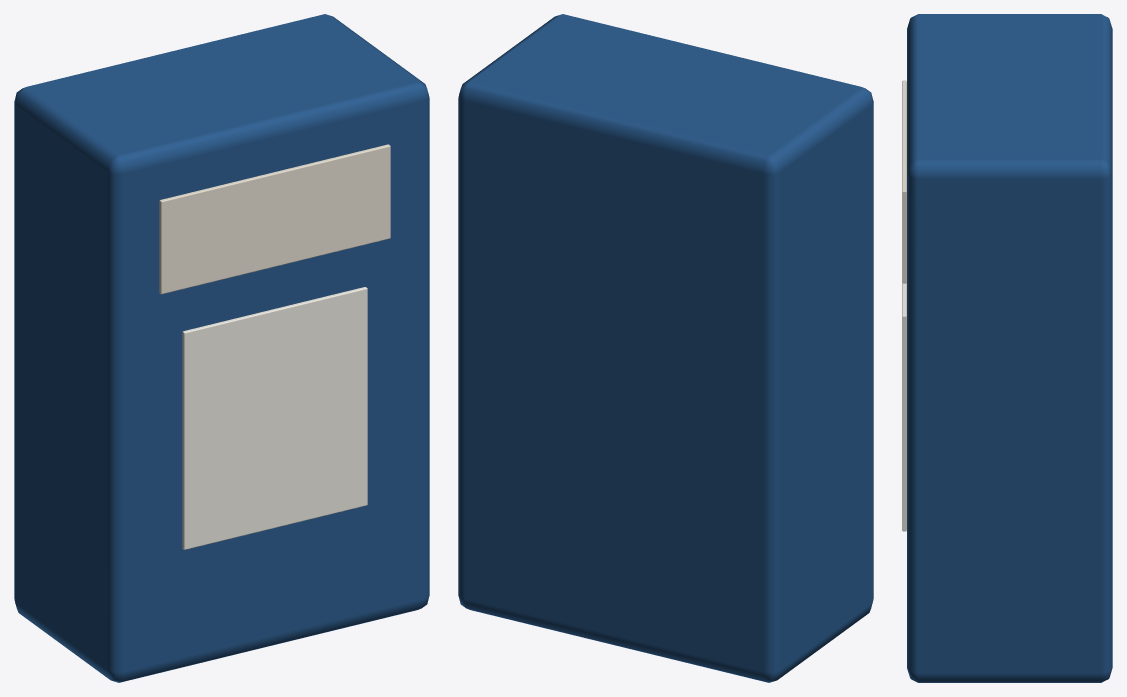
File: wp-paquet-de-riz.glb
3 views of the same model, side by side, from view 1: azimuth 30°, elevation 25°; view 2: azimuth 150°, elevation 25°; view 3: azimuth 270°, elevation 25° (orthographic).
Visible parts, largest first — view 1: wp-paquet-de-riz; view 2: wp-paquet-de-riz; view 3: wp-paquet-de-riz.
Boxes of the visible parts, x1,y1,x2,y2 form: wp-paquet-de-riz: [14, 14, 429, 682]; wp-paquet-de-riz: [458, 14, 873, 682]; wp-paquet-de-riz: [902, 14, 1112, 682].
Size of the model in its own units: 0.14 by 0.22 by 0.08.
